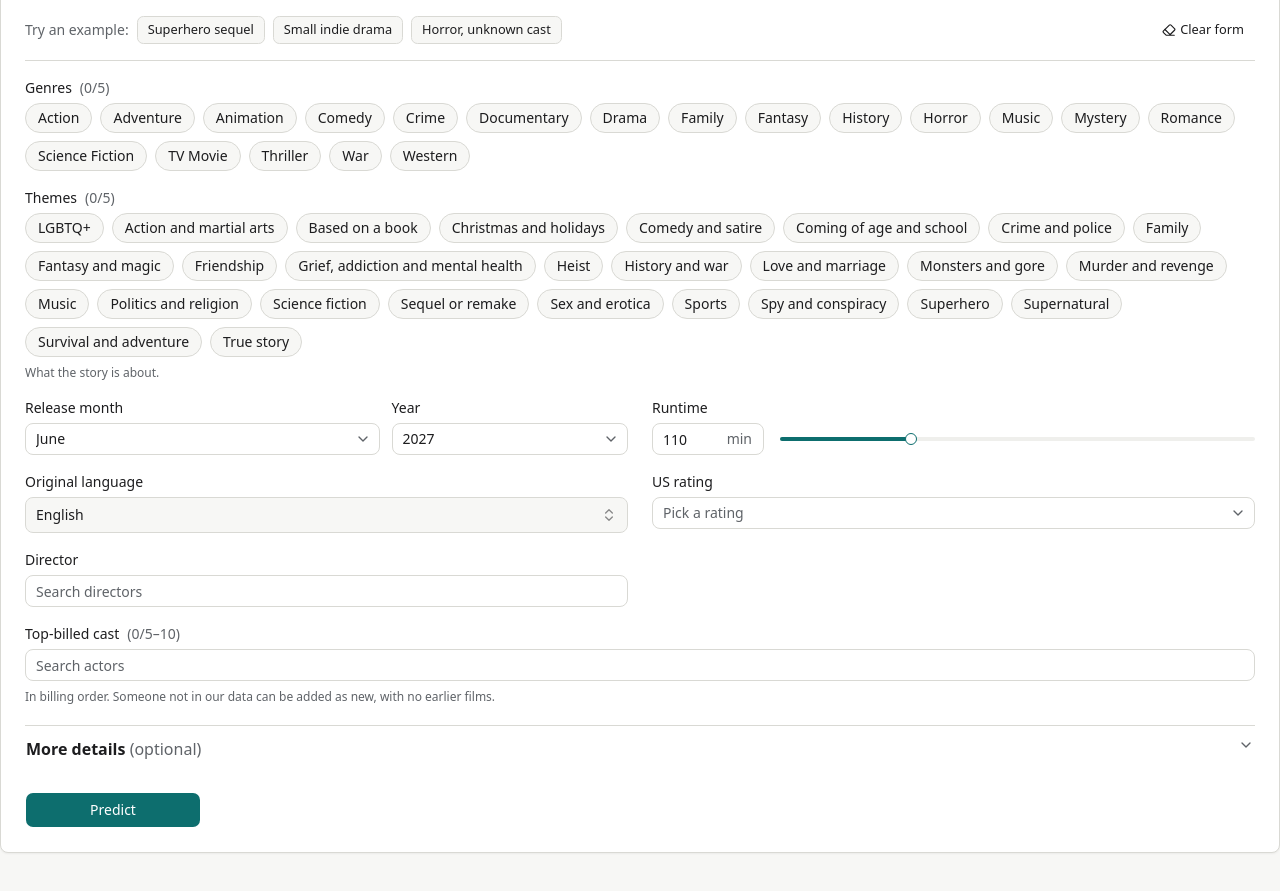
Scenario: inputs › the synopsis counts characters
Click the button "More details (optional)": [78, 749] box x1=25 y1=726 x2=1255 y2=772
(page scrolled)
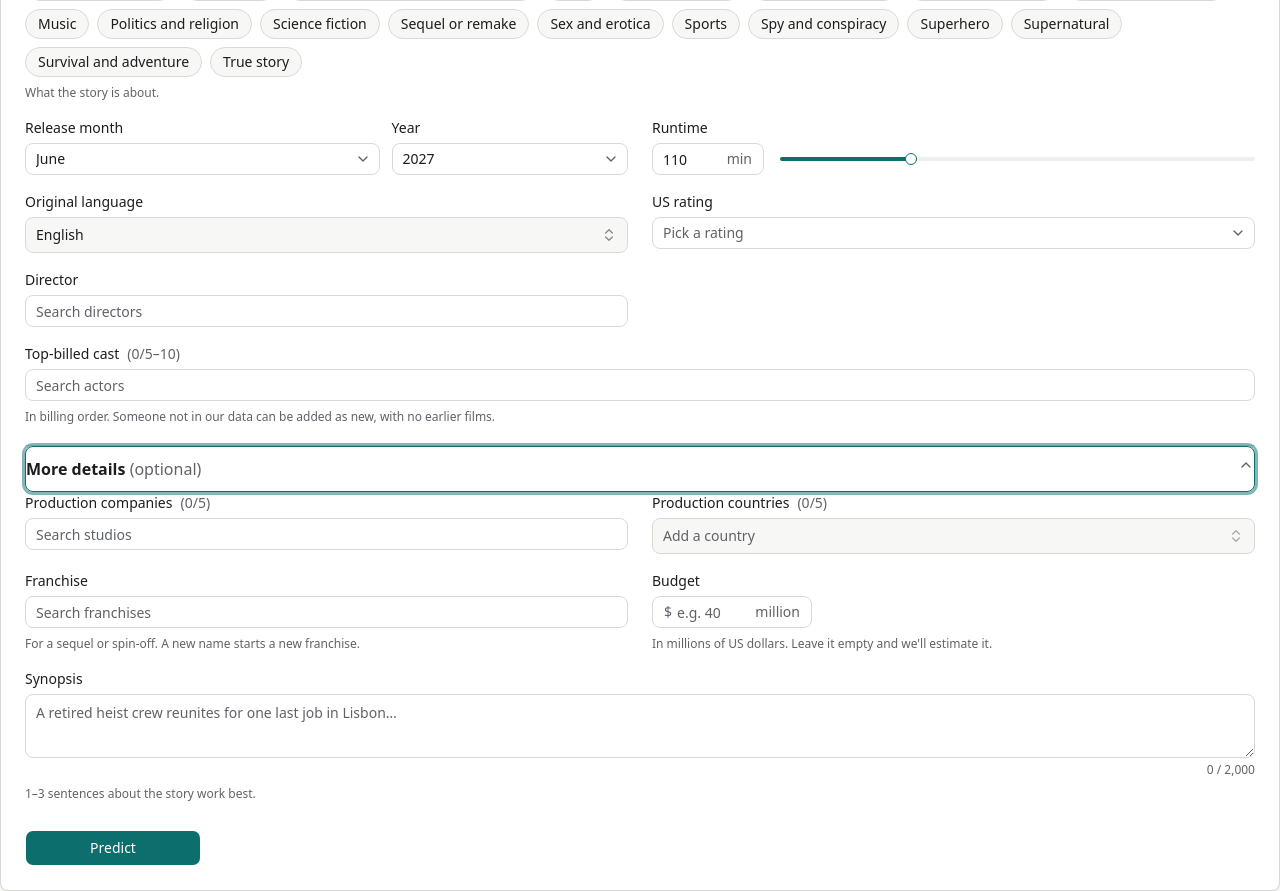
In the text box labelled "Synopsis": [640, 726] box x1=25 y1=694 x2=1255 y2=758, type "Two sisters run a bakery."
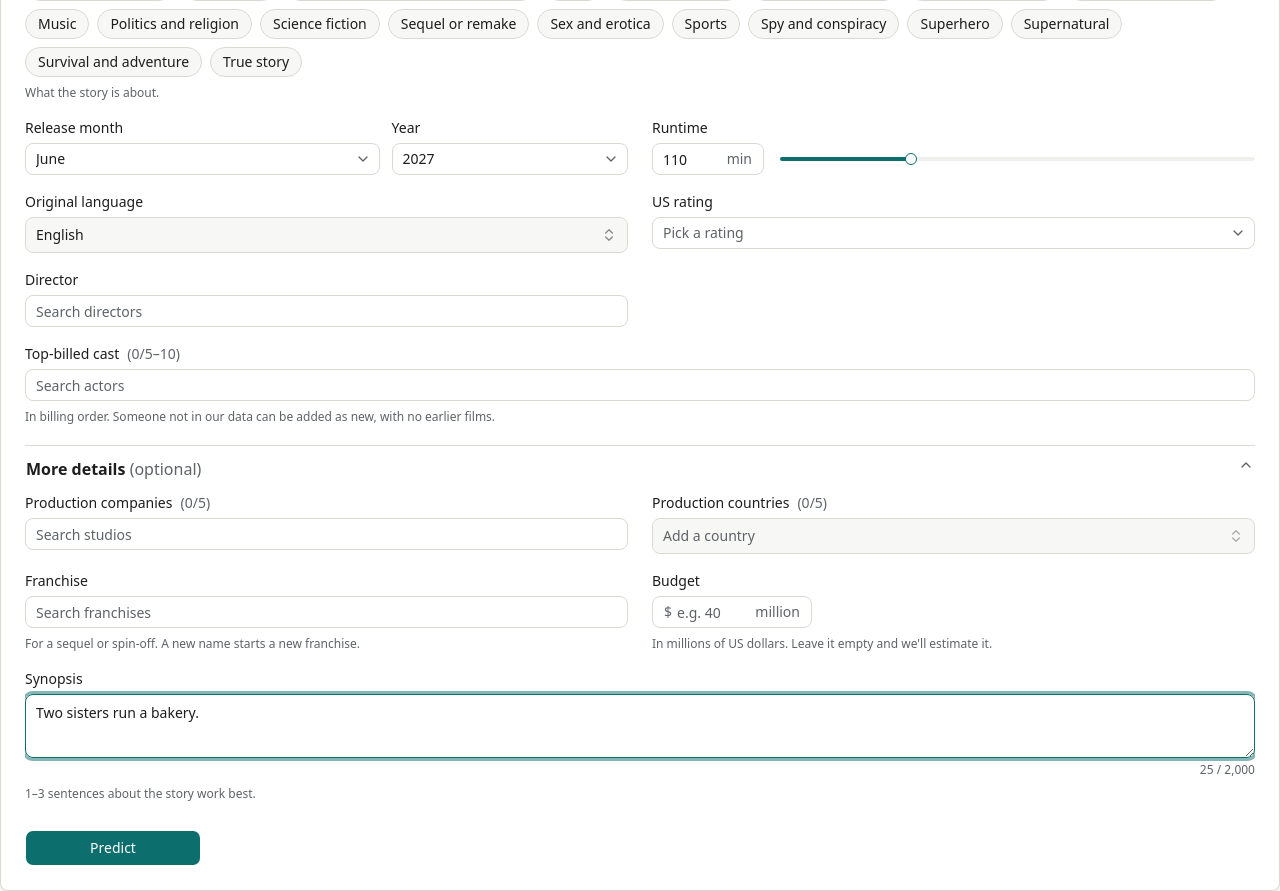
Expected: the text "25 / 2,000" is shown, x1=1200 y1=761 x2=1255 y2=778
